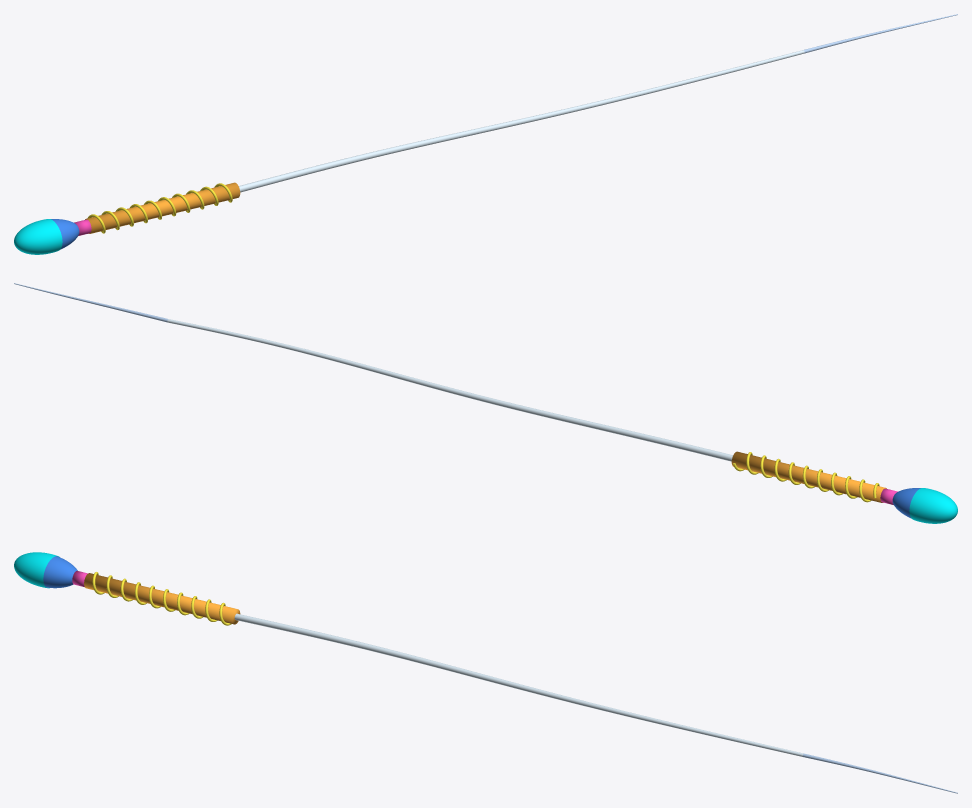
The model's file is 06_Cabeza_microcefalica.glb.
3 renders of one model, top to bottom at view 1: azimuth 30°, elevation 25°; view 2: azimuth 150°, elevation 25°; view 3: azimuth 330°, elevation 25°, orthographic.
Parts seen in each view (by area): view 1: Cola_pieza_principal.001, Pieza_intermedia.001, Cubierta_acrosomal_microcefalica, Helice_mitocondrial_didactica.001; view 2: Cola_pieza_principal.001, Pieza_intermedia.001, Cubierta_acrosomal_microcefalica, Helice_mitocondrial_didactica.001; view 3: Cola_pieza_principal.001, Pieza_intermedia.001, Helice_mitocondrial_didactica.001, Cubierta_acrosomal_microcefalica, Cabeza_nucleo_microcefalica.
Boxes of the visible parts, x1,y1,x2,y2 form: Cola_pieza_principal.001: [238, 50, 804, 192]; Pieza_intermedia.001: [85, 182, 240, 233]; Cubierta_acrosomal_microcefalica: [14, 219, 62, 254]; Helice_mitocondrial_didactica.001: [87, 183, 232, 233]; Cola_pieza_principal.001: [167, 319, 732, 461]; Pieza_intermedia.001: [731, 451, 886, 502]; Cubierta_acrosomal_microcefalica: [909, 488, 957, 523]; Helice_mitocondrial_didactica.001: [733, 452, 879, 502]; Cola_pieza_principal.001: [234, 613, 803, 756]; Pieza_intermedia.001: [84, 573, 240, 624]; Helice_mitocondrial_didactica.001: [92, 572, 231, 625]; Cubierta_acrosomal_microcefalica: [14, 552, 59, 588]; Cabeza_nucleo_microcefalica: [43, 556, 77, 588].
Bounding box in the file's own units: 58.12 × 1.76 × 2.09.
